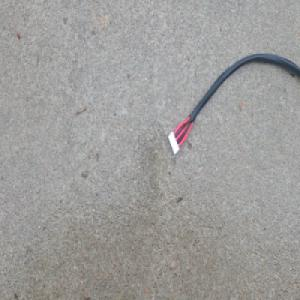Wire: (166, 53, 300, 156)
